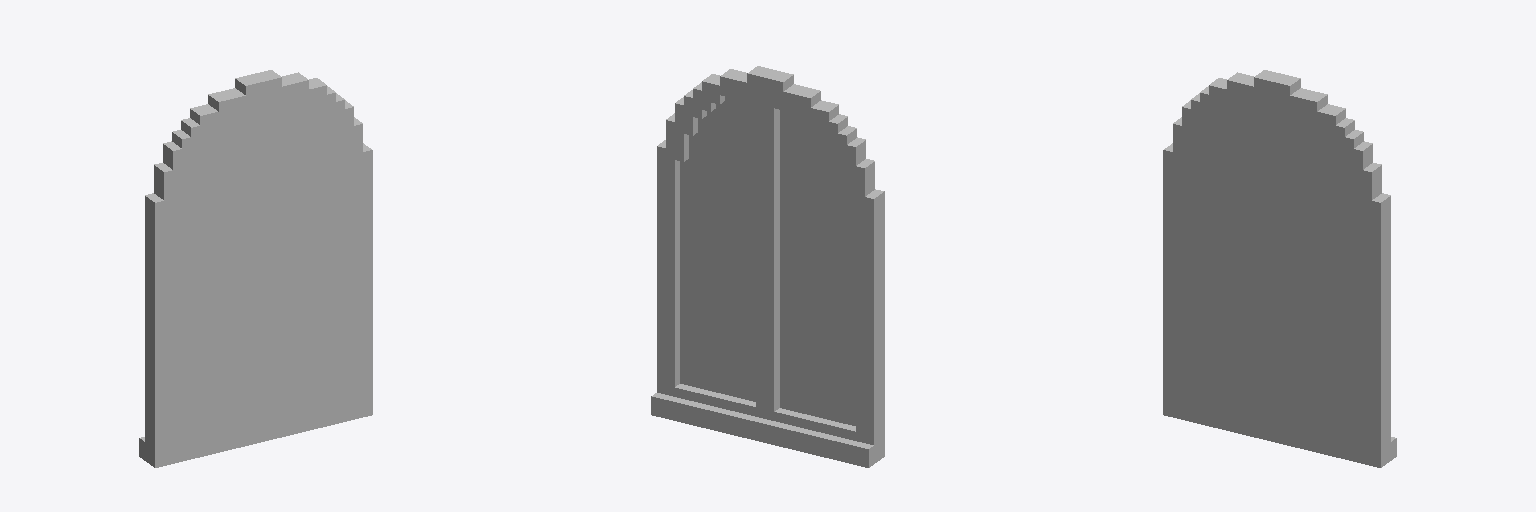
Rendered from janela_arredondada.obj.
3 renders of one model, left to right at view 1: azimuth 30°, elevation 25°; view 2: azimuth 150°, elevation 25°; view 3: azimuth 330°, elevation 25°, orthographic.
Parts seen in each view (by area): view 1: janela_arredondada; view 2: janela_arredondada; view 3: janela_arredondada.
Boxes of the visible parts, x1=… form: janela_arredondada: x1=139, y1=70, x2=372, y2=467; janela_arredondada: x1=651, y1=66, x2=884, y2=467; janela_arredondada: x1=1163, y1=70, x2=1396, y2=467.
Size of the model in its own units: 24 by 38 by 3.